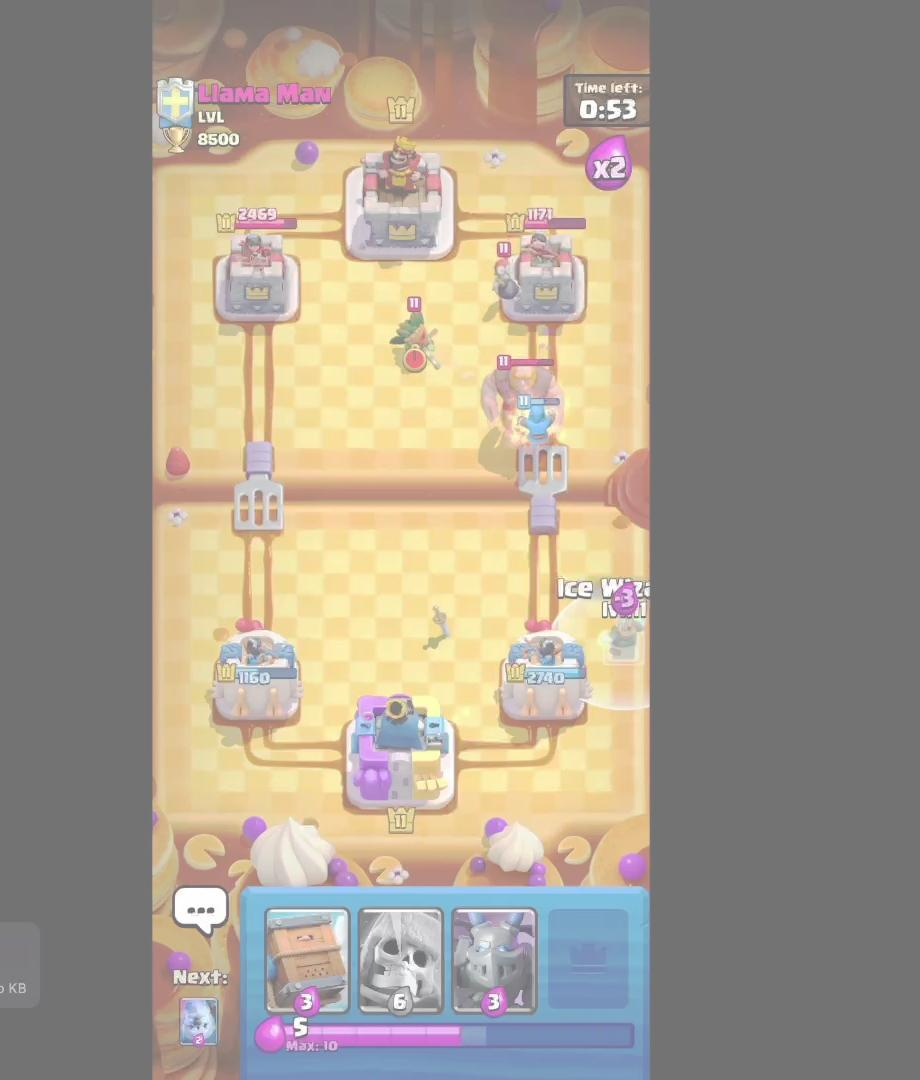Bomber: (486, 242, 525, 309)
Dart Goblin: (389, 293, 444, 369)
Giant: (480, 353, 579, 444)
